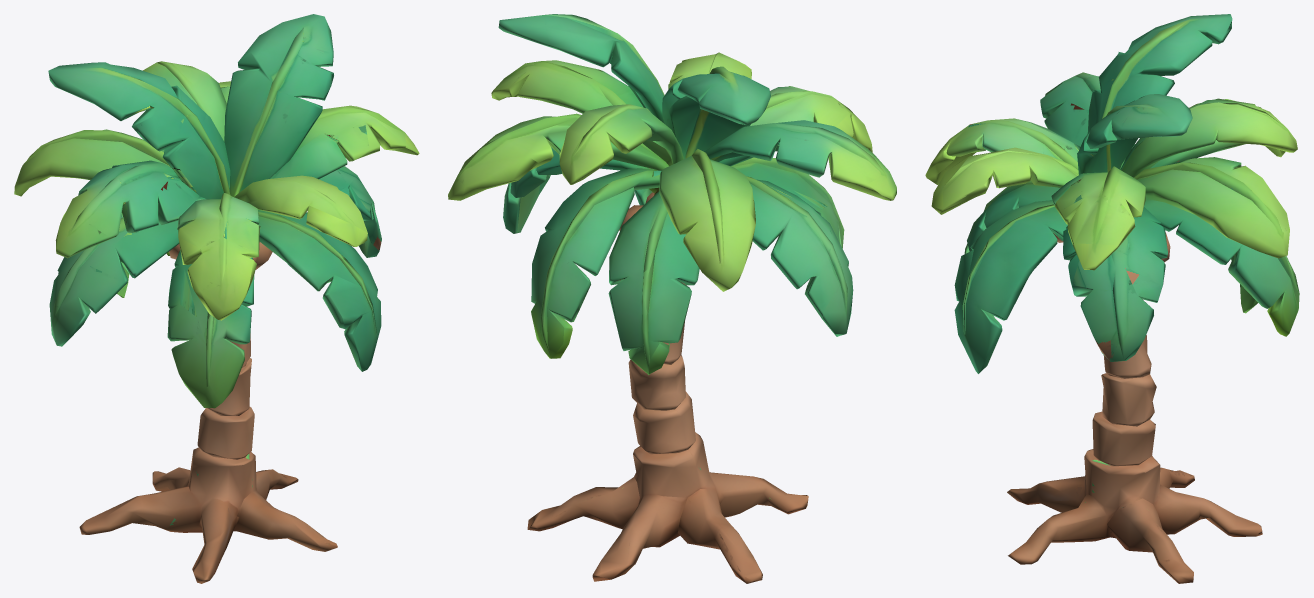
File: palm-cartoon-race-5000.glb
3 views of the same model, side by side, from view 1: azimuth 30°, elevation 25°; view 2: azimuth 150°, elevation 25°; view 3: azimuth 270°, elevation 25° (orthographic). The views are drawn at different scales.
Visible parts, largest first — view 1: model; view 2: model; view 3: model.
Boxes of the visible parts, left/top/right/bottom form: model: left=14, top=14, right=419, bottom=583; model: left=448, top=14, right=896, bottom=583; model: left=925, top=14, right=1299, bottom=583.
Bounding box in the file's own units: 1.57 × 1.9 × 1.36.
1 material, 1 textured.
